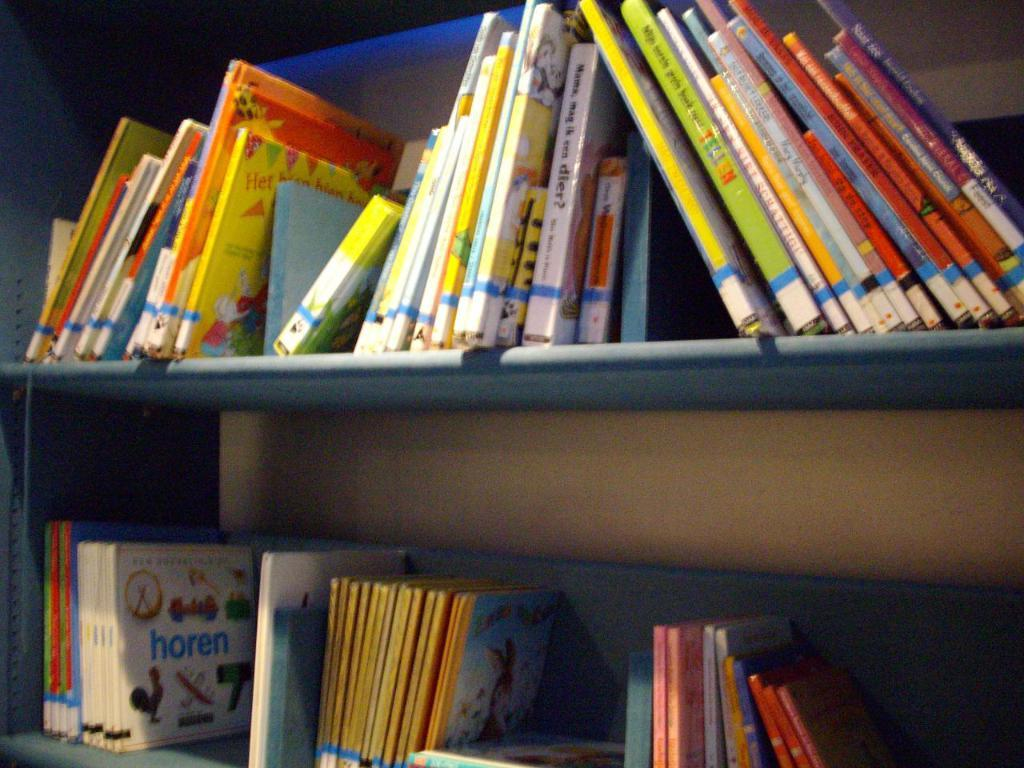Book: (566, 0, 1023, 343), (29, 54, 413, 363), (346, 0, 639, 358), (314, 570, 562, 767), (45, 513, 238, 747), (619, 611, 886, 767), (245, 538, 410, 767), (79, 538, 245, 757), (269, 197, 410, 351), (413, 727, 627, 767)
